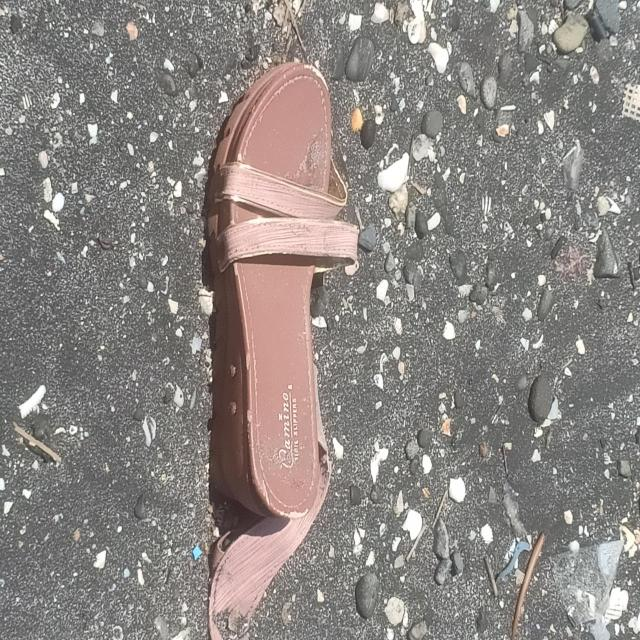rubber_waste: (208, 60, 361, 522)
